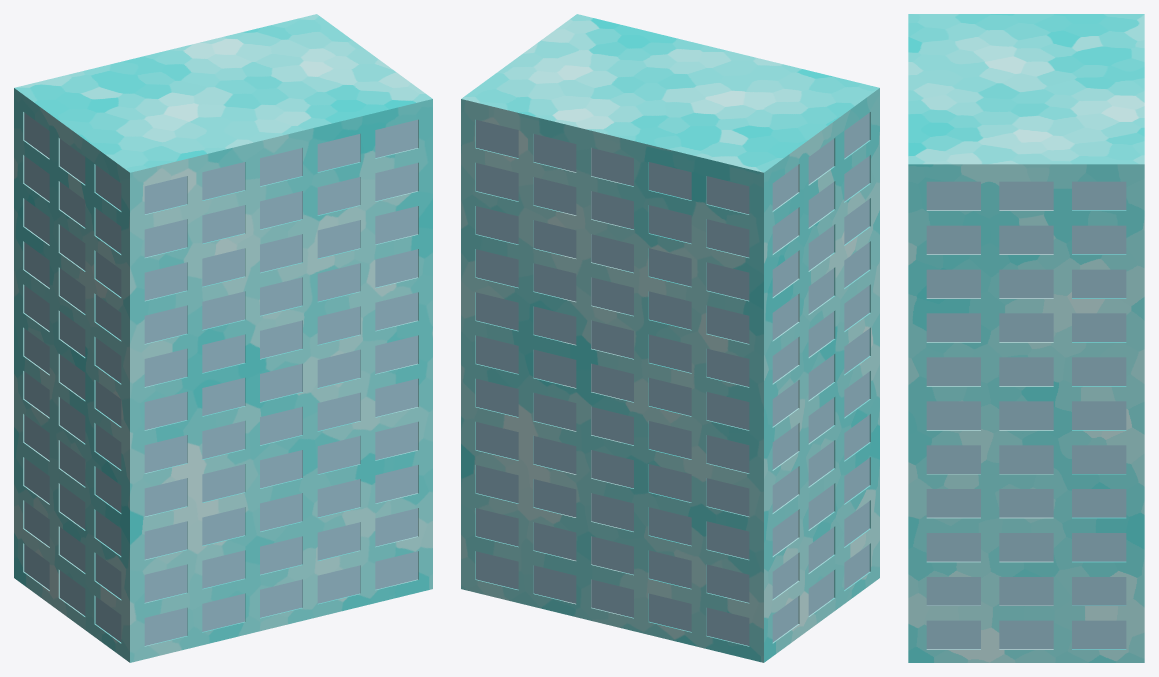
Rendered from Building_01_Skyblue.fbx.
The picture shows the model from 3 angles, left to right: view 1: azimuth 30°, elevation 25°; view 2: azimuth 150°, elevation 25°; view 3: azimuth 270°, elevation 25°; orthographic projection.
Visible parts, largest first — view 1: Building01_out, Building01_window; view 2: Building01_out, Building01_window; view 3: Building01_out, Building01_window.
Part boxes in pixels (x1,y1,x2,y2): Building01_out: (14, 14, 432, 662); Building01_window: (24, 113, 417, 645); Building01_out: (461, 14, 879, 662); Building01_window: (476, 113, 869, 645); Building01_out: (908, 14, 1144, 662); Building01_window: (926, 181, 1126, 649).
Size of the model in its own units: 1422 by 2200 by 944.
